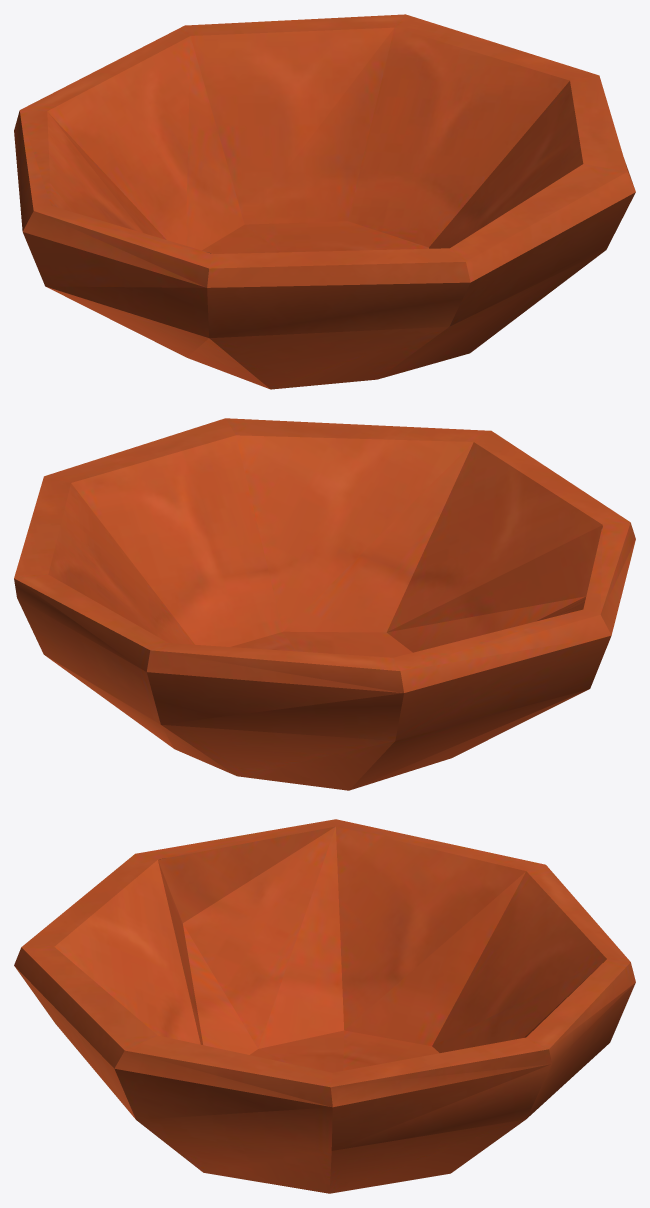
Rendered from diya_clay_03.glb.
The picture shows the model from 3 angles, top to bottom: view 1: azimuth 30°, elevation 25°; view 2: azimuth 150°, elevation 25°; view 3: azimuth 270°, elevation 25°; orthographic projection. The views are drawn at different scales.
Parts seen in each view (by area): view 1: diya_mesh; view 2: diya_mesh; view 3: diya_mesh.
Part boxes in pixels (x1,y1,x2,y2): diya_mesh: (14, 14, 635, 389); diya_mesh: (14, 418, 635, 790); diya_mesh: (14, 819, 635, 1193).
Size of the model in its own units: 0.3067 by 0.0937 by 0.2935.
Materials: 1 (1 with a texture image).
